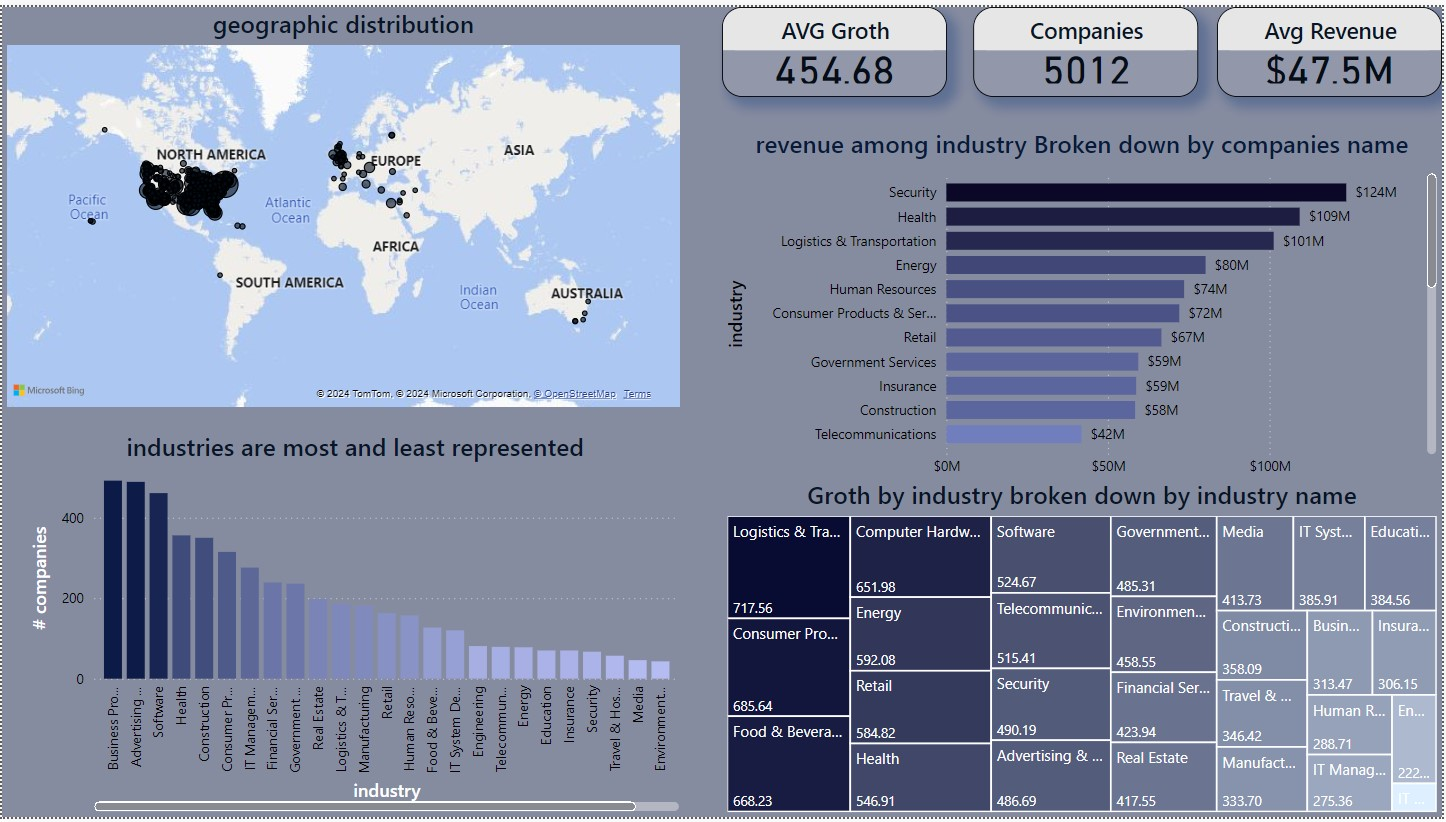

The dashboard page shown, as its layout file describes it:
{"tool":"powerbi","page":{"name":"Dashboard","canvas":[1280,720],"ordinal":0},"visuals":[{"type":"card","title":"Companies","fields":{"Values":["_measures Dax.# companies"]},"box":[862.9,0,200,80],"z":0},{"type":"card","title":"Avg Revenue","fields":{"Values":["_measures Dax.# revenue"]},"box":[1080,0,200,80],"z":1000},{"type":"barChart","title":"revenue among industry Broken down by companies name","fields":{"Category":["_my data.industry","_my data.name"],"Y":["_measures Dax.# revenue"]},"box":[640,106.2,640,320],"z":2000},{"type":"card","title":"AVG Groth","fields":{"Values":["_measures Dax.# groth"]},"box":[640,0,200,80],"z":3000},{"type":"columnChart","title":"industries are most and least represented","fields":{"Y":["_measures Dax.# companies"],"Category":["_my data.industry"]},"box":[21.4,375.7,585.7,344.3],"z":4000},{"type":"map","title":"geographic distribution","fields":{"Size":["_measures Dax.# companies"],"Category":["_my data.city"]},"box":[0,0,607.1,360],"z":5000},{"type":"treemap","title":"Groth by industry broken down by industry name","fields":{"Values":["_measures Dax.# groth"],"Group":["_my data.industry","_my data.name"]},"box":[640,418.6,640,301.4],"z":6000}]}

Visuals, with their boxes in screenshot pixels (x1, y1, x2, y2), scaled from the page's 1280x720 canvas onto the 1446x822 screenshot:
"Companies" card: (975, 0, 1201, 91)
"Avg Revenue" card: (1220, 0, 1445, 91)
"revenue among industry Broken down by companies name" barChart: (723, 121, 1445, 487)
"AVG Groth" card: (723, 0, 949, 91)
"industries are most and least represented" columnChart: (24, 429, 686, 821)
"geographic distribution" map: (0, 0, 686, 411)
"Groth by industry broken down by industry name" treemap: (723, 478, 1445, 821)
